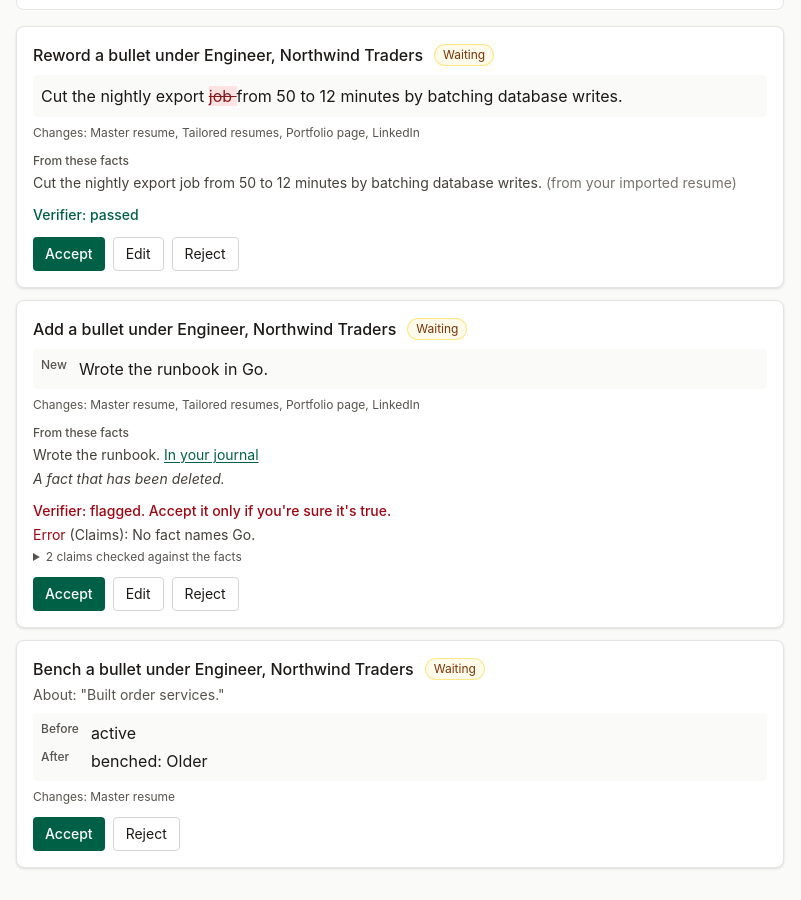
Scenario: the inbox › clears an edit's error when the edit is cancelled
(page scrolled)
Click the button "Edit" below "2 claims".
click(138, 594)  # box top-left (113, 577), bottom-right (164, 611)
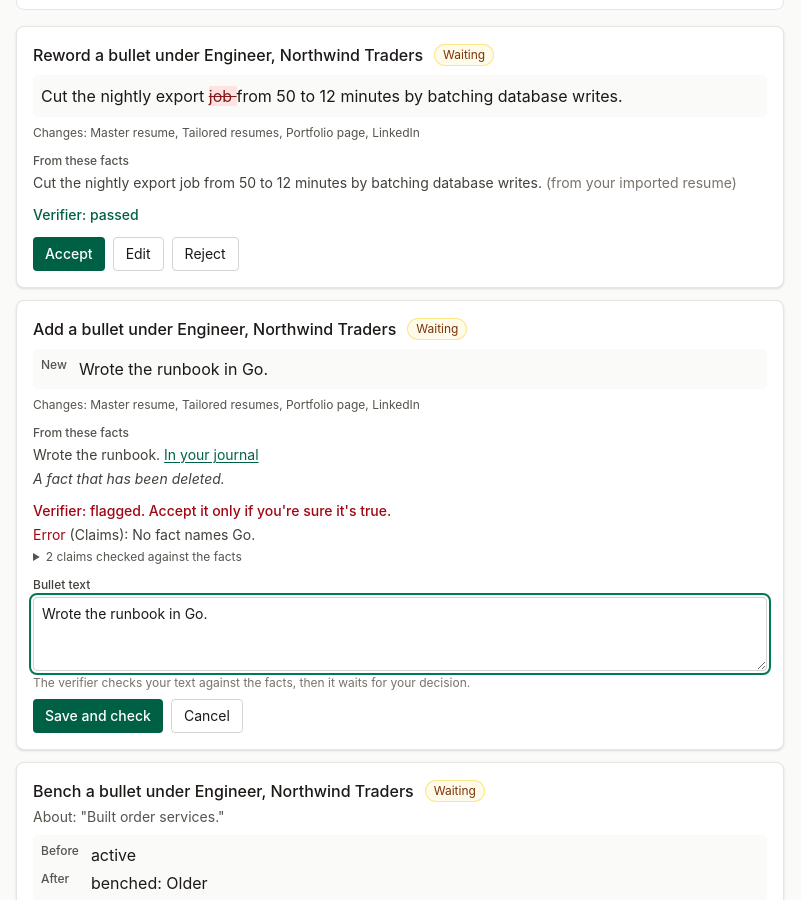
Click the button "Save and check".
click(98, 716)  # box top-left (33, 699), bottom-right (163, 733)
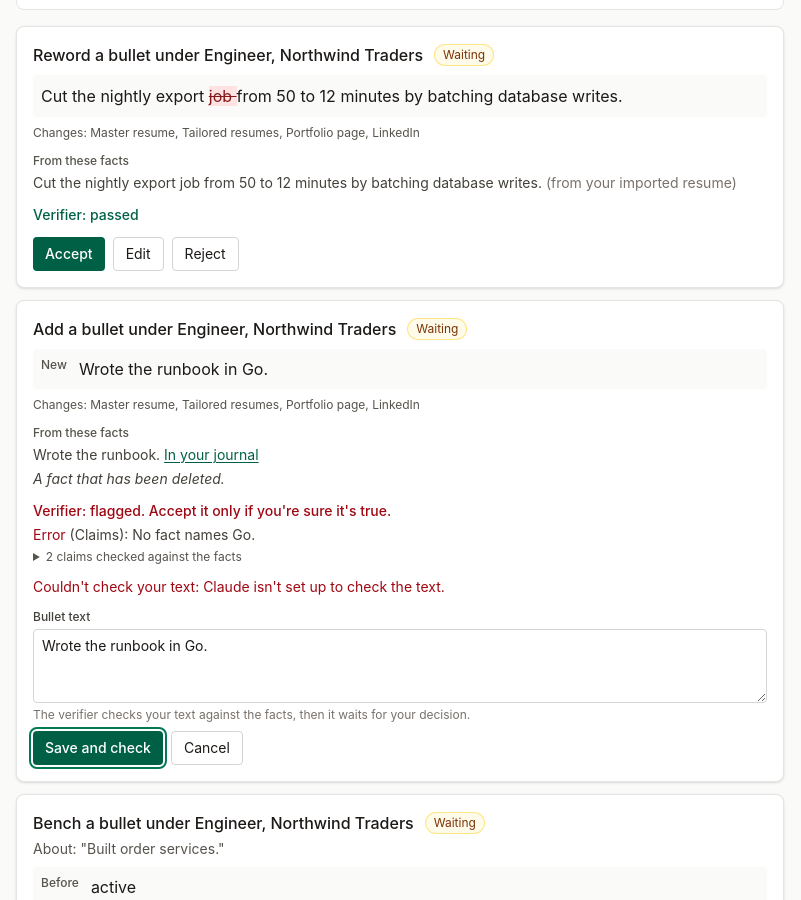
Check: the message reads "Couldn't check your text: Claude isn't set up to check the text.", box top-left (33, 578), bottom-right (445, 595)
Click the button "Cancel".
click(207, 748)  # box top-left (171, 731), bottom-right (243, 765)
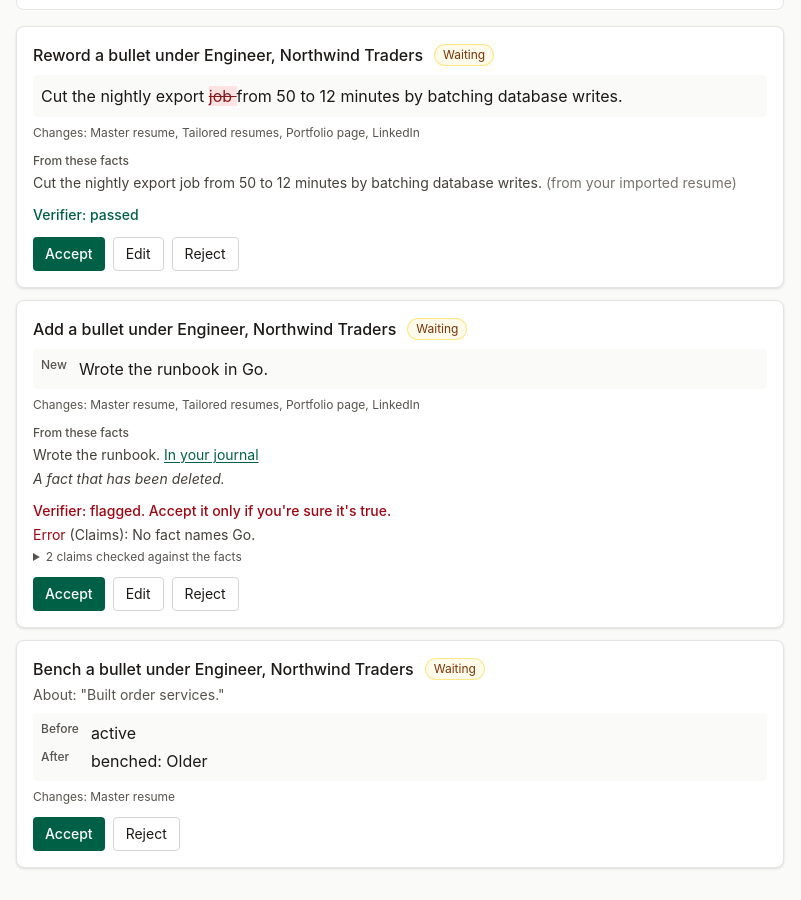
Check: the message "Couldn't check your text: Claude isn't set up to check the text." is gone
